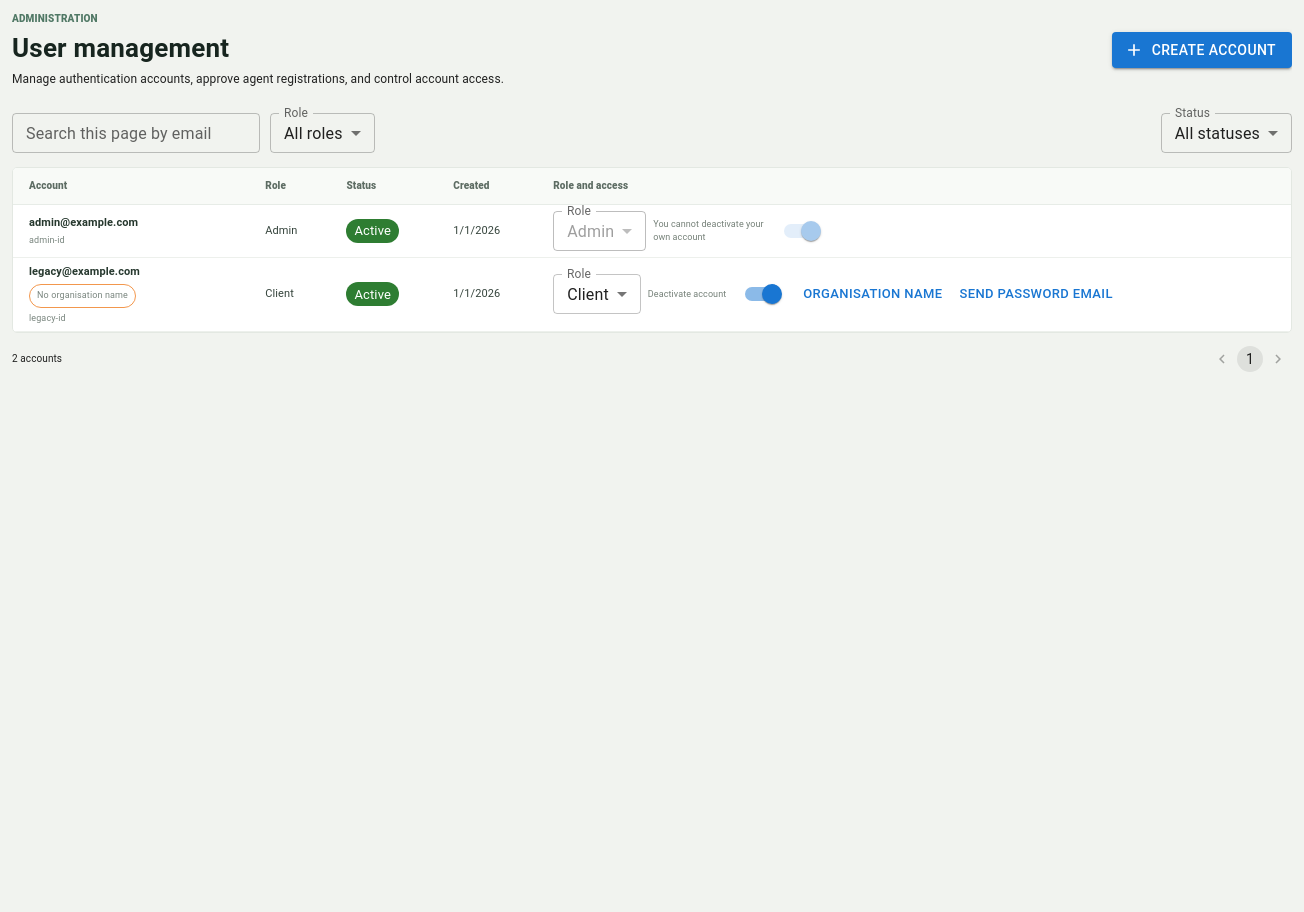
Test case: admin user management › creates a missing Firebase account before sending a password email
Click the button with aria-label "Send password email to legacy@example.com". click: [1036, 294]
box: [955, 279, 1118, 310]
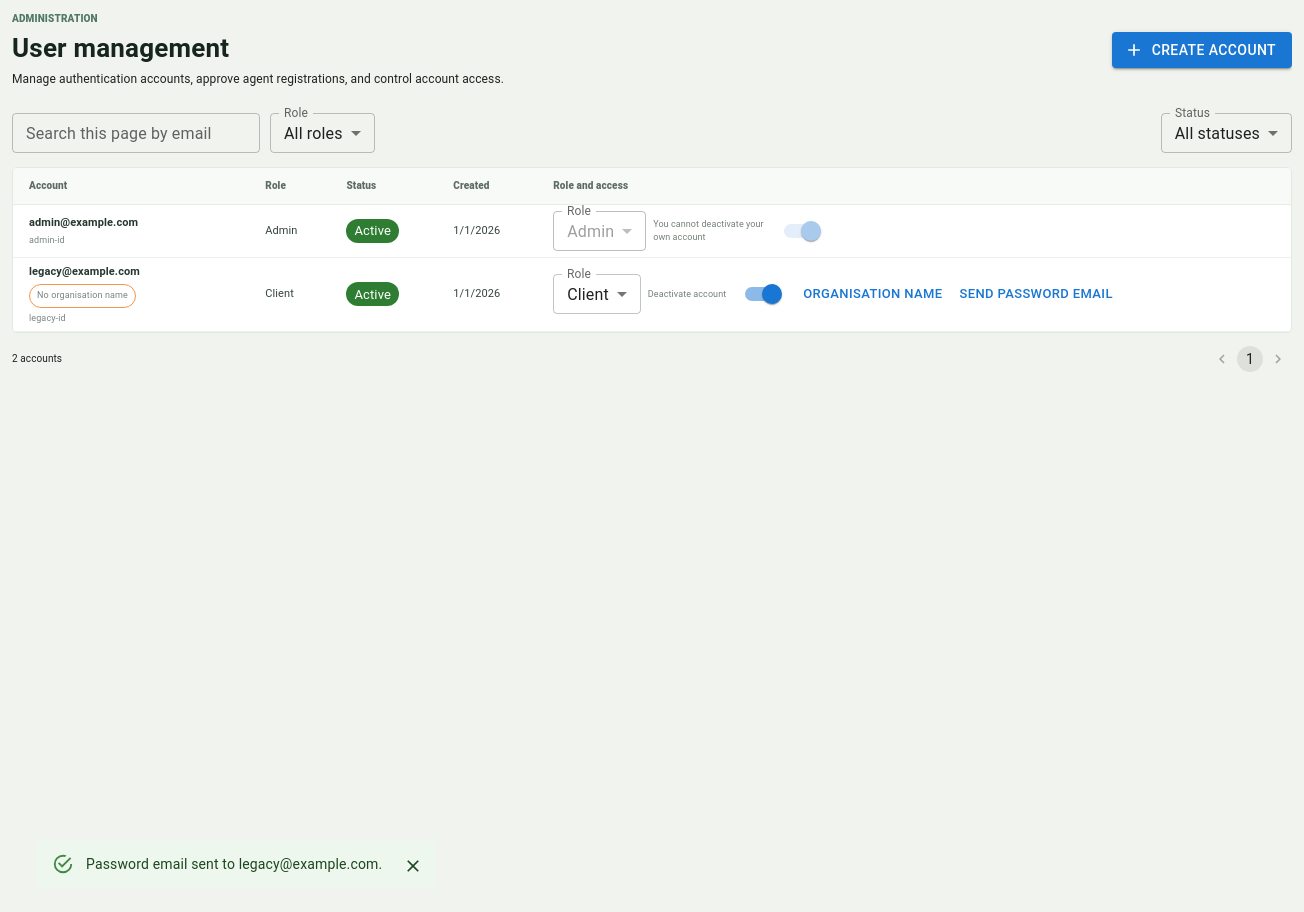
Check: the text "Password email sent to legacy@example.com." is shown, box [86, 856, 382, 872]
